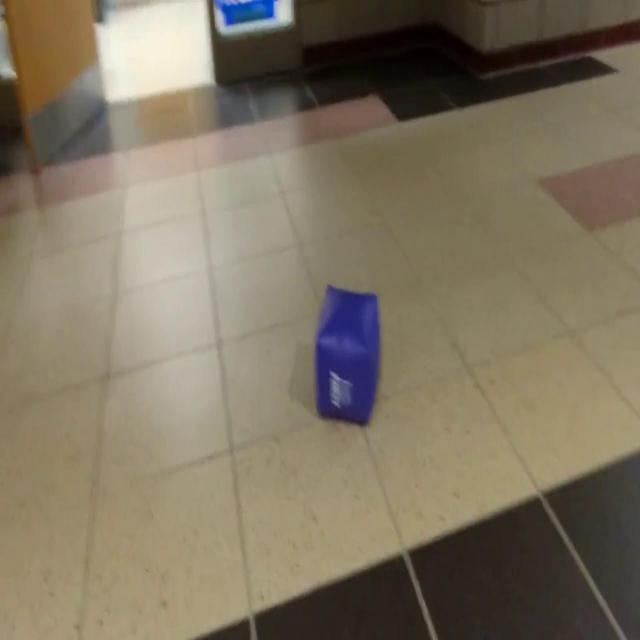frc_cube: (312, 293, 378, 425)
